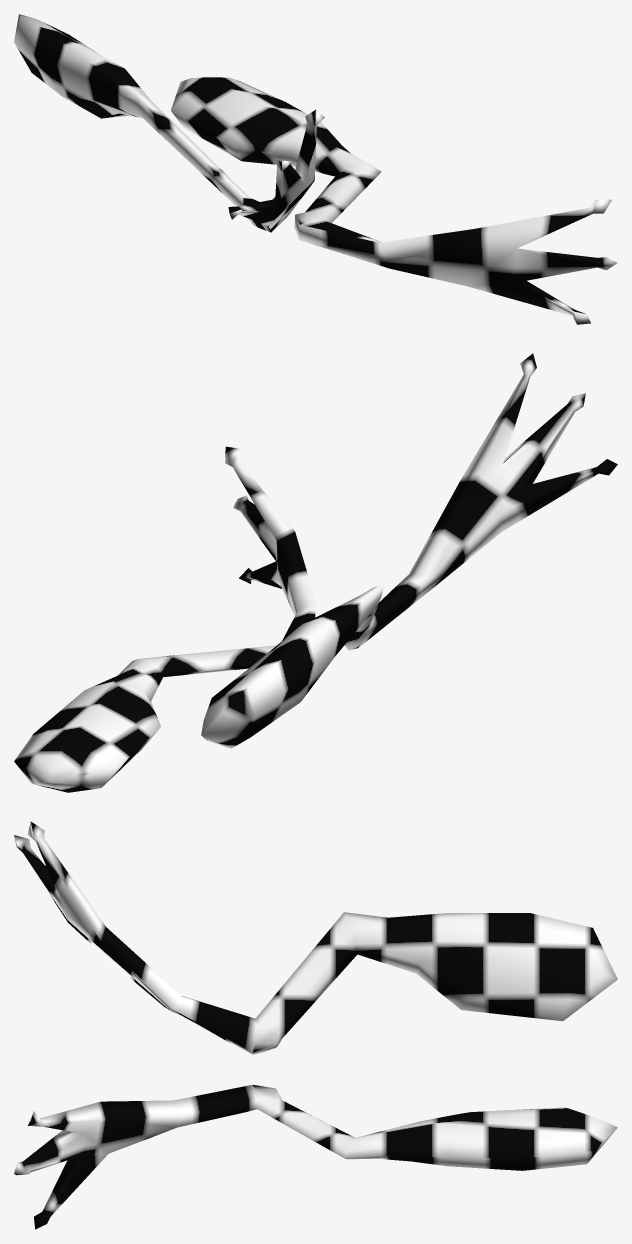
File: initlitr26.dae
The picture shows the model from 3 angles, top to bottom: view 1: azimuth 30°, elevation 25°; view 2: azimuth 150°, elevation 25°; view 3: azimuth 270°, elevation 25°; orthographic projection. The views are drawn at different scales.
Visible parts, largest first — view 1: item; view 2: item; view 3: item.
Boxes of the visible parts, left/top/right/bottom form: item: left=14, top=14, right=617, bottom=324; item: left=14, top=353, right=617, bottom=792; item: left=14, top=821, right=617, bottom=1229.
Size of the model in its own units: 1.24 by 1.74 by 0.8812.
1 material, 1 textured.
